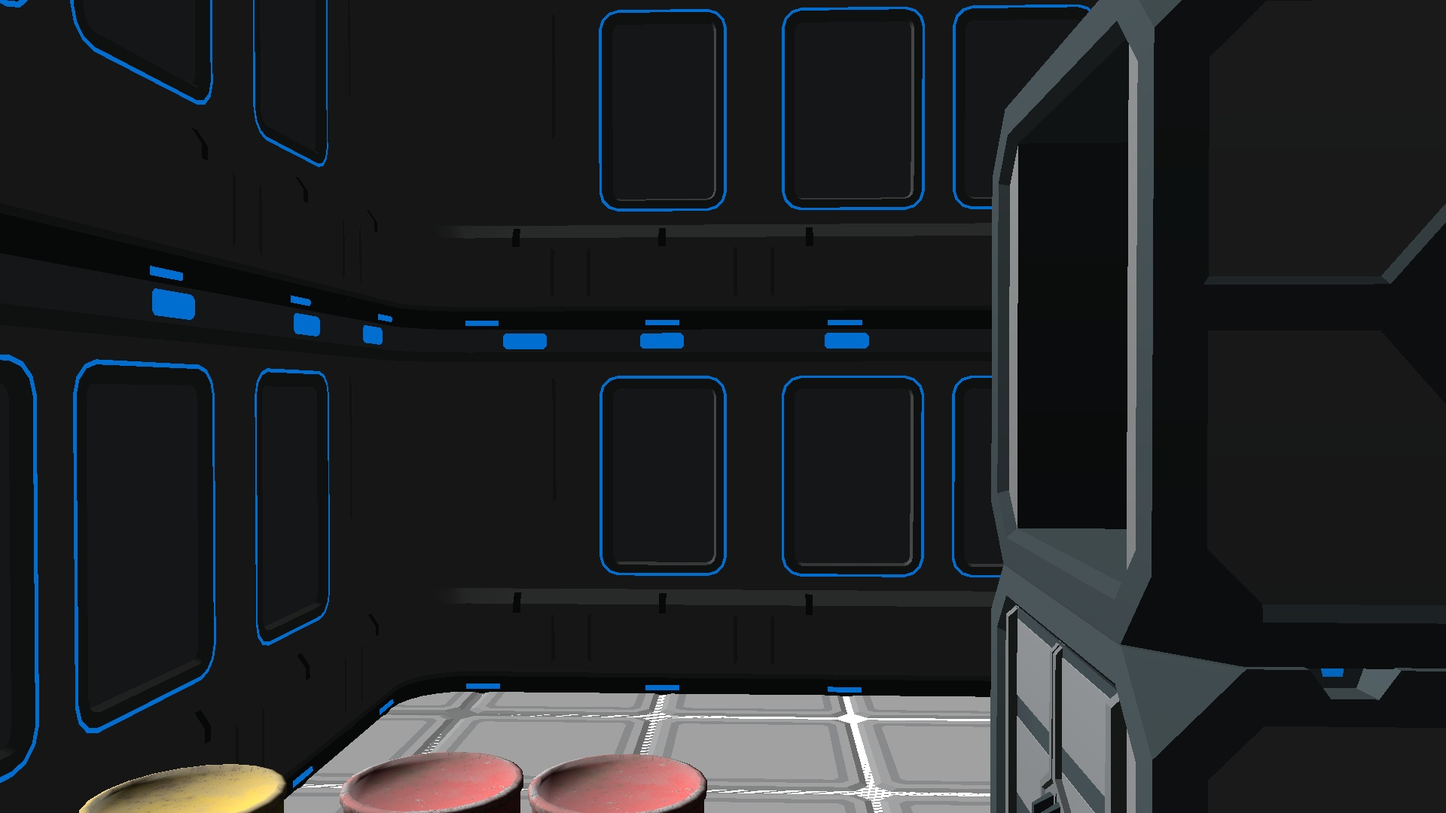toxic barrel: (339, 751, 524, 813), (528, 754, 707, 813), (78, 764, 285, 813)
